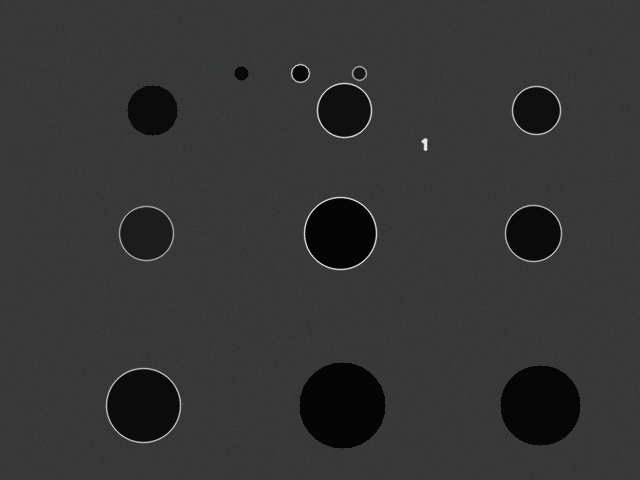hole: (299, 362, 385, 448), (500, 365, 580, 445), (106, 368, 180, 442), (304, 197, 376, 269), (505, 205, 561, 261), (317, 83, 371, 137), (119, 206, 173, 260), (127, 85, 177, 135), (512, 86, 560, 134), (291, 64, 309, 82), (234, 66, 248, 80), (352, 66, 366, 80)
